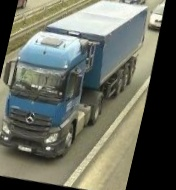truck: (0, 0, 154, 178)
